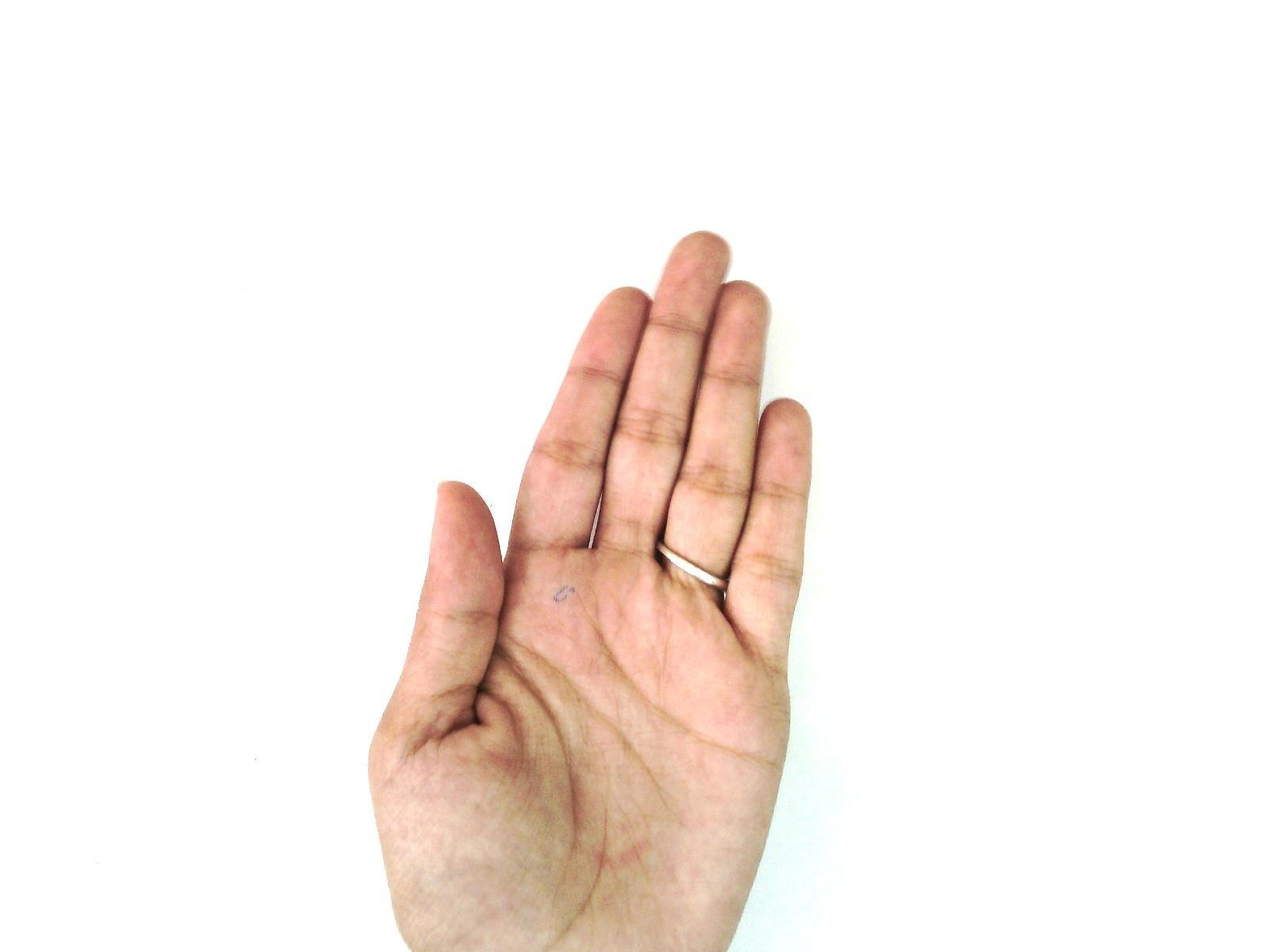open_palm: (366, 229, 816, 951)
